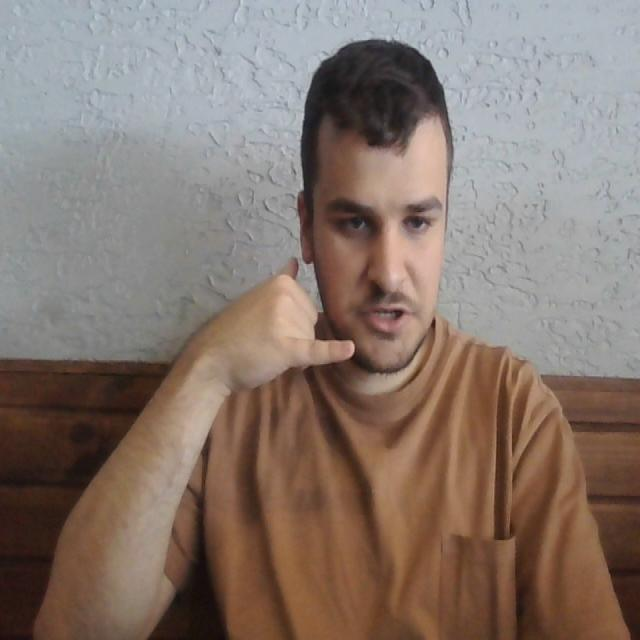Telefon: (233, 222, 354, 406)
